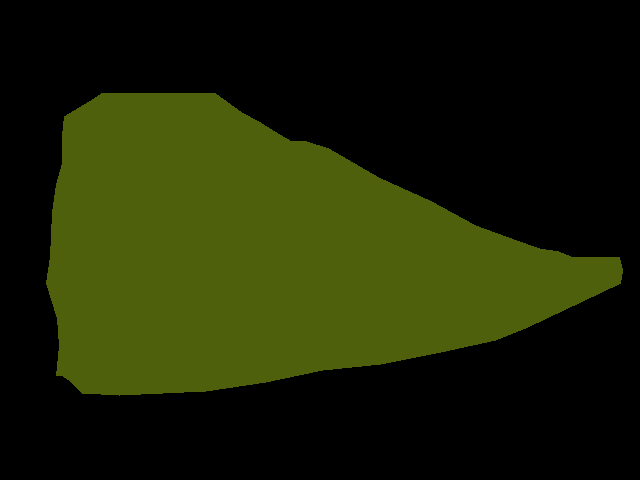Train: (46, 93, 622, 396)
